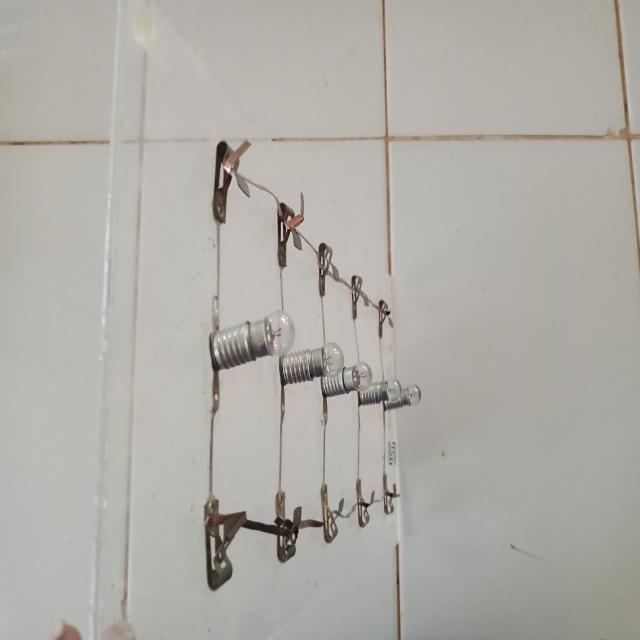Set of Resistors and Bulbs: (198, 125, 443, 578)
